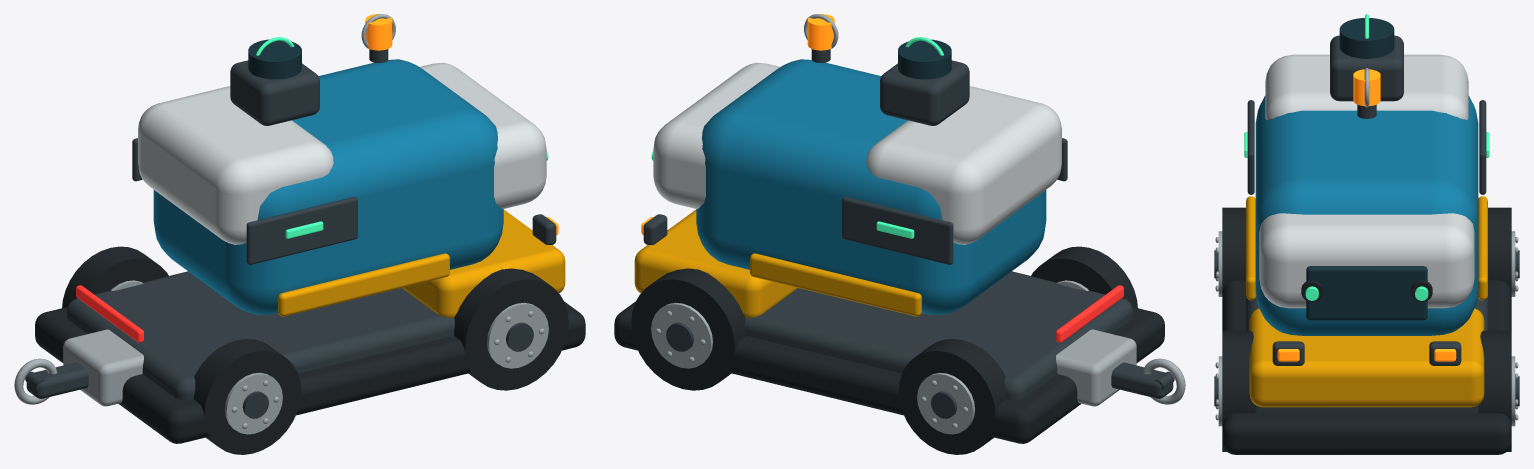
3 views of the same model, side by side, from view 1: azimuth 30°, elevation 25°; view 2: azimuth 150°, elevation 25°; view 3: azimuth 270°, elevation 25° (orthographic).
Visible parts, largest first — view 1: Operatorless tractor body, Lower ladder frame, Upper rear equipment cover, Lower perimeter bumper, Traction wheel front right tire, Traction wheel rear right tire, Front nose cover, Front chassis nose, Side identification panel 0.296, Side rub rail 0.296, Sensor mast pedestal, Rear drawbar mount (+11 smaller); view 2: Operatorless tractor body, Lower ladder frame, Upper rear equipment cover, Lower perimeter bumper, Traction wheel front left tire, Traction wheel rear left tire, Front nose cover, Front chassis nose, Side identification panel -0.296, Side rub rail -0.296, Sensor mast pedestal, Rear drawbar mount (+11 smaller); view 3: Operatorless tractor body, Front chassis nose, Front nose cover, Lower perimeter bumper, Upper rear equipment cover, Front sensor grille, Sensor mast pedestal, Traction wheel front left tire, Traction wheel front right tire, Lower ladder frame, Roof lidar housing, Traction wheel rear left tire (+12 smaller).
Boxes of the visible parts, <box> form: Operatorless tractor body: <box>153,59,503,314</box>; Lower ladder frame: <box>66,271,454,399</box>; Upper rear equipment cover: <box>138,86,333,244</box>; Lower perimeter bumper: <box>35,301,585,443</box>; Traction wheel front right tire: <box>454,268,568,390</box>; Traction wheel rear right tire: <box>193,339,301,454</box>; Front nose cover: <box>420,62,546,208</box>; Front chassis nose: <box>402,209,565,317</box>; Side identification panel 0.296: <box>246,196,357,264</box>; Side rub rail 0.296: <box>278,253,449,316</box>; Sensor mast pedestal: <box>230,60,319,125</box>; Rear drawbar mount: <box>63,329,143,406</box>; Operatorless tractor body: <box>696,59,1046,314</box>; Lower ladder frame: <box>745,271,1133,399</box>; Upper rear equipment cover: <box>866,86,1061,244</box>; Lower perimeter bumper: <box>614,301,1164,443</box>; Traction wheel front left tire: <box>631,268,745,390</box>; Traction wheel rear left tire: <box>898,339,1006,454</box>; Front nose cover: <box>653,62,779,208</box>; Front chassis nose: <box>634,209,797,317</box>; Side identification panel -0.296: <box>842,196,953,264</box>; Side rub rail -0.296: <box>750,253,921,316</box>; Sensor mast pedestal: <box>880,60,969,125</box>; Rear drawbar mount: <box>1056,329,1136,406</box>; Operatorless tractor body: <box>1255,96,1478,335</box>; Front chassis nose: <box>1249,308,1484,407</box>; Front nose cover: <box>1259,213,1474,308</box>; Lower perimeter bumper: <box>1222,280,1511,454</box>; Upper rear equipment cover: <box>1265,54,1468,119</box>; Front sensor grille: <box>1306,266,1427,320</box>; Sensor mast pedestal: <box>1330,35,1403,101</box>; Traction wheel front left tire: <box>1478,330,1511,451</box>; Traction wheel front right tire: <box>1222,330,1255,451</box>; Lower ladder frame: <box>1245,274,1488,412</box>; Roof lidar housing: <box>1339,18,1394,58</box>; Traction wheel rear left tire: <box>1488,207,1511,291</box>.
Size of the model in its own units: 1.51 by 0.975 by 0.781.
